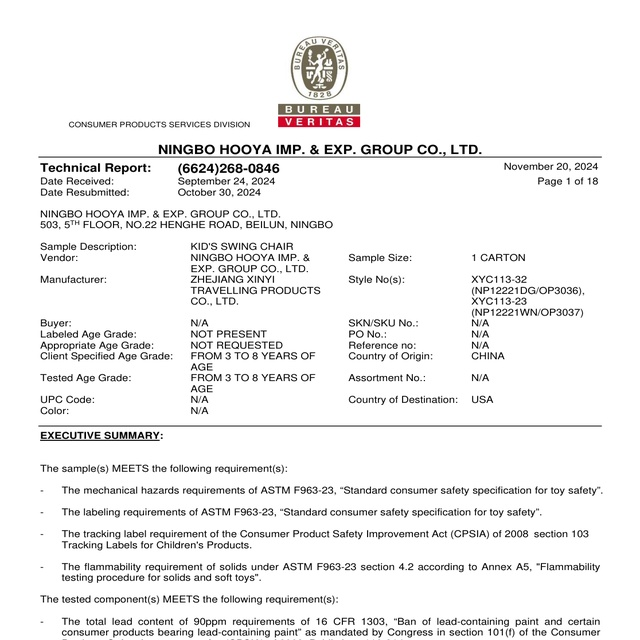bureau_veritas: (277, 32, 364, 129)
